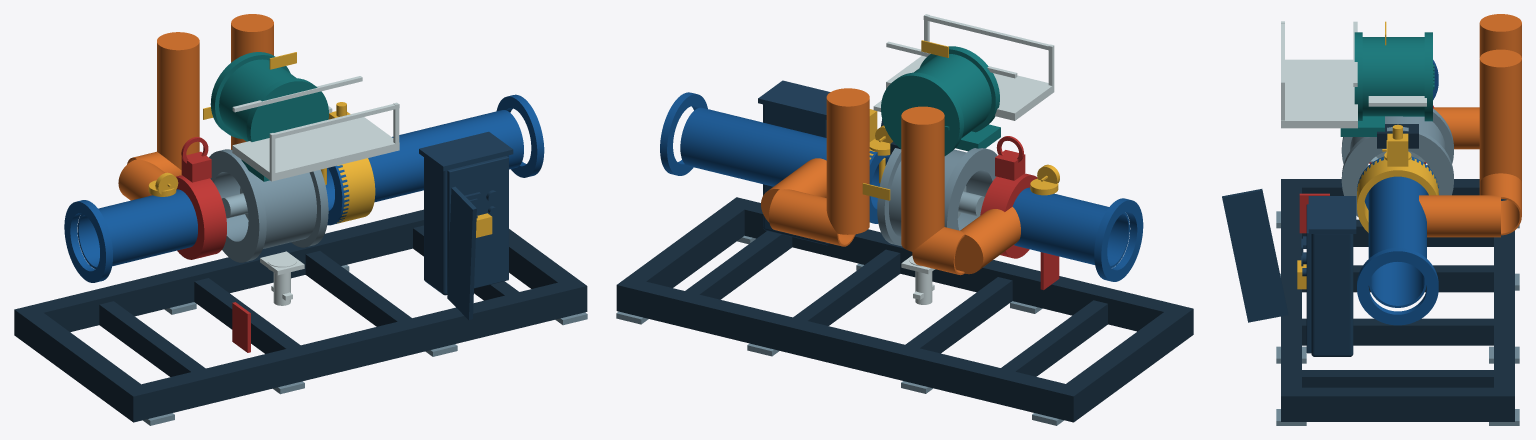
Rendered from regenflow_service.glb.
The picture shows the model from 3 angles, left to right: view 1: azimuth 30°, elevation 25°; view 2: azimuth 150°, elevation 25°; view 3: azimuth 270°, elevation 25°; orthographic projection. The views are drawn at different scales.
Parts seen in each view (by area): view 1: regenflow.skid_frame, regenflow.control_cabinet, regenflow.service_bypass, regenflow.inlet_pressure_pipe, regenflow.pat_housing, regenflow.outlet_pressure_pipe, regenflow.service_platform, regenflow.generator, regenflow.isolation_valve, regenflow.control_cabinet.service_door, regenflow.instrumentation, regenflow.drain_access (+1 smaller); view 2: regenflow.skid_frame, regenflow.service_bypass, regenflow.outlet_pressure_pipe, regenflow.inlet_pressure_pipe, regenflow.generator, regenflow.pat_housing, regenflow.service_platform, regenflow.control_cabinet, regenflow.isolation_valve, regenflow.instrumentation, regenflow.drain_access, regenflow.lockout_tagout; view 3: regenflow.skid_frame, regenflow.service_bypass, regenflow.outlet_pressure_pipe, regenflow.control_cabinet, regenflow.generator, regenflow.service_platform, regenflow.control_cabinet.service_door, regenflow.pat_housing, regenflow.instrumentation, regenflow.service_cover, regenflow.runner_coupling_guard, regenflow.lockout_tagout.
Boxes of the visible parts, x1=… form: regenflow.skid_frame: x1=14, y1=209, x2=587, y2=422; regenflow.control_cabinet: x1=419, y1=131, x2=513, y2=295; regenflow.service_bypass: x1=118, y1=14, x2=273, y2=200; regenflow.inlet_pressure_pipe: x1=64, y1=189, x2=197, y2=282; regenflow.pat_housing: x1=209, y1=149, x2=328, y2=262; regenflow.outlet_pressure_pipe: x1=325, y1=94, x2=544, y2=225; regenflow.service_platform: x1=232, y1=76, x2=399, y2=181; regenflow.generator: x1=210, y1=52, x2=328, y2=181; regenflow.isolation_valve: x1=176, y1=151, x2=226, y2=259; regenflow.control_cabinet.service_door: x1=447, y1=186, x2=476, y2=319; regenflow.instrumentation: x1=148, y1=102, x2=375, y2=223; regenflow.drain_access: x1=260, y1=251, x2=304, y2=305; regenflow.skid_frame: x1=616, y1=197, x2=1193, y2=422; regenflow.service_bypass: x1=761, y1=88, x2=1020, y2=275; regenflow.outlet_pressure_pipe: x1=660, y1=92, x2=890, y2=223; regenflow.inlet_pressure_pipe: x1=1012, y1=187, x2=1143, y2=281; regenflow.generator: x1=881, y1=46, x2=1000, y2=155; regenflow.pat_housing: x1=877, y1=148, x2=997, y2=246; regenflow.service_platform: x1=886, y1=14, x2=1054, y2=120; regenflow.control_cabinet: x1=758, y1=80, x2=830, y2=245; regenflow.isolation_valve: x1=980, y1=150, x2=1037, y2=258; regenflow.instrumentation: x1=869, y1=109, x2=1059, y2=222; regenflow.drain_access: x1=901, y1=255, x2=935, y2=304; regenflow.lockout_tagout: x1=1040, y1=252, x2=1059, y2=289; regenflow.skid_frame: x1=1281, y1=179, x2=1514, y2=421; regenflow.service_bypass: x1=1419, y1=14, x2=1521, y2=237; regenflow.outlet_pressure_pipe: x1=1357, y1=156, x2=1438, y2=325; regenflow.control_cabinet: x1=1301, y1=196, x2=1356, y2=356; regenflow.generator: x1=1340, y1=32, x2=1434, y2=136; regenflow.service_platform: x1=1281, y1=21, x2=1357, y2=128; regenflow.control_cabinet.service_door: x1=1222, y1=189, x2=1288, y2=322; regenflow.pat_housing: x1=1341, y1=108, x2=1453, y2=216; regenflow.instrumentation: x1=1357, y1=124, x2=1438, y2=232; regenflow.service_cover: x1=1368, y1=96, x2=1426, y2=106; regenflow.runner_coupling_guard: x1=1377, y1=124, x2=1418, y2=148; regenflow.lockout_tagout: x1=1299, y1=193, x2=1329, y2=233.
Size of the model in its own units: 2200 by 1314 by 1281.
